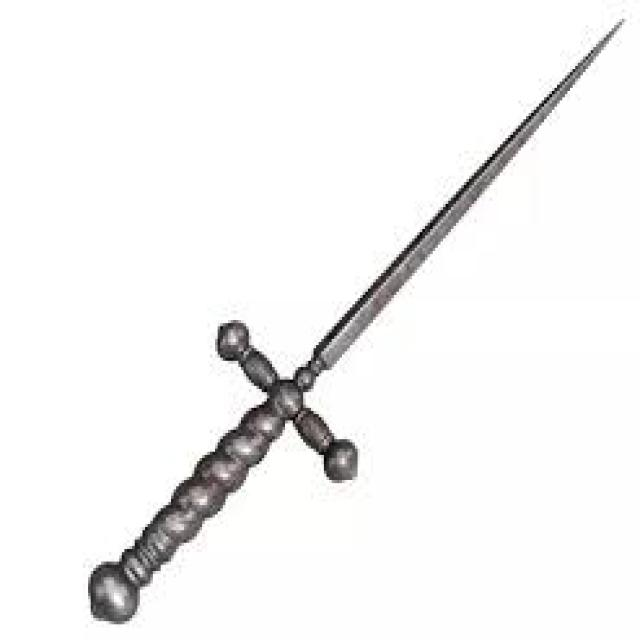knives: (80, 6, 630, 628)
